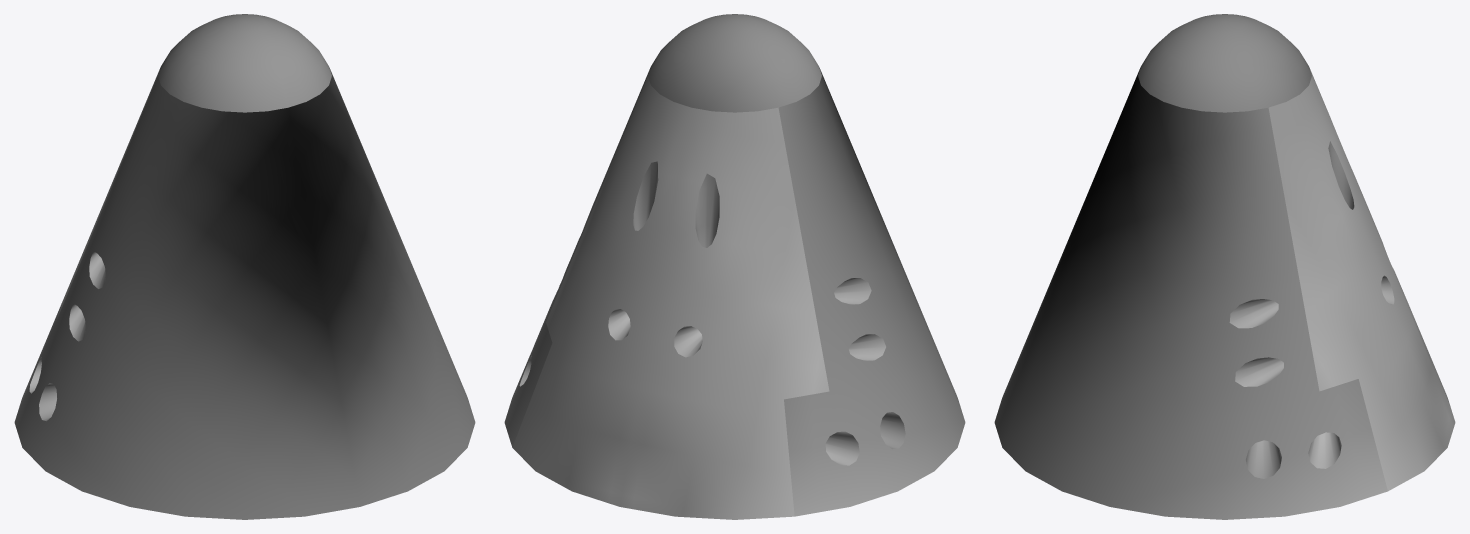
The model's file is nose_cone.fbx.
3 views of the same model, side by side, from view 1: azimuth 30°, elevation 25°; view 2: azimuth 150°, elevation 25°; view 3: azimuth 270°, elevation 25° (orthographic).
Parts seen in each view (by area): view 1: mesh; view 2: mesh; view 3: mesh.
Boxes of the visible parts, left/top/right/bottom form: mesh: left=14, top=14, right=475, bottom=519; mesh: left=504, top=14, right=965, bottom=519; mesh: left=994, top=14, right=1455, bottom=519.
Size of what is drawn, in the model's own units: 0.625 by 0.6 by 0.625.
